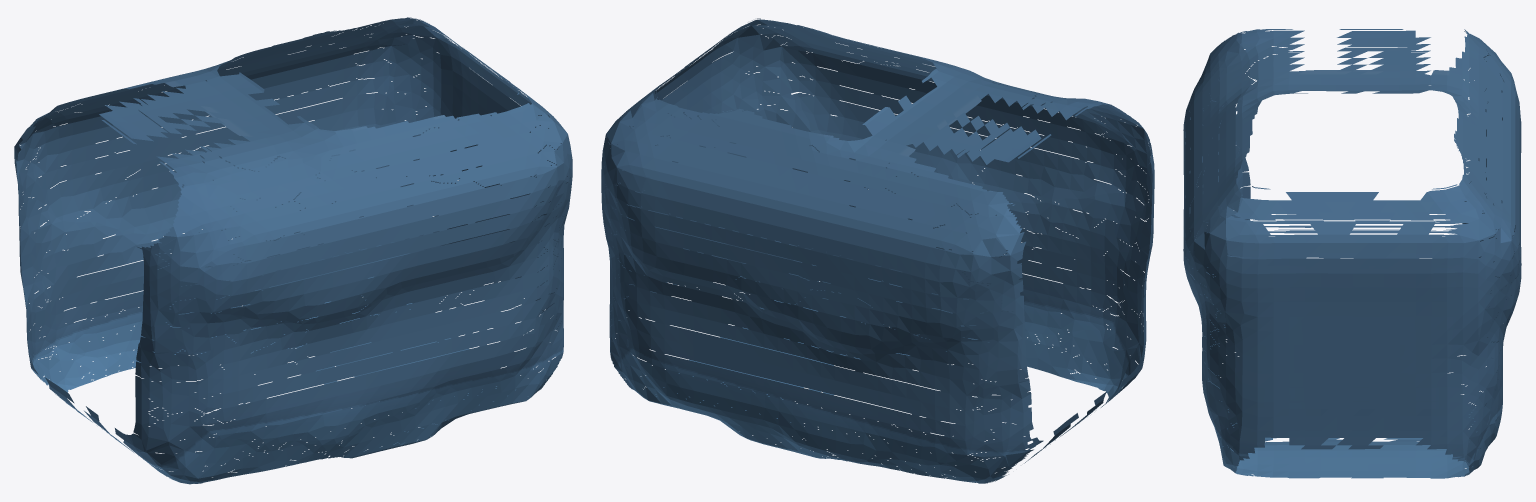
3 renders of one model, left to right at view 1: azimuth 30°, elevation 25°; view 2: azimuth 150°, elevation 25°; view 3: azimuth 270°, elevation 25°, orthographic. The views are drawn at different scales.
Visible parts, largest first — view 1: reconstruction; view 2: reconstruction; view 3: reconstruction.
Boxes of the visible parts, box(x1,y1,x2,y2) form: reconstruction: box(14, 17, 572, 484); reconstruction: box(601, 18, 1154, 483); reconstruction: box(1183, 29, 1521, 478).
Bounding box in the file's own units: 1 × 0.7367 × 0.7045.
1 material, 1 textured.
